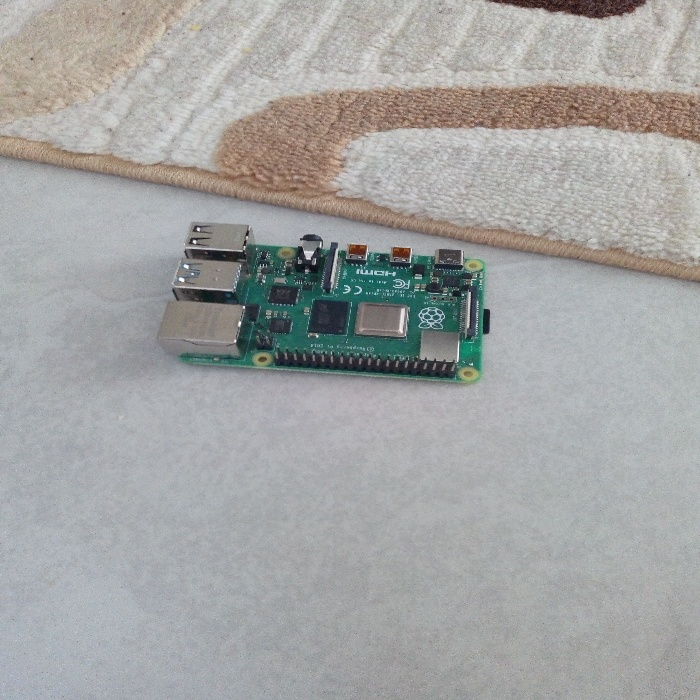raspberry: (116, 225, 507, 378)
